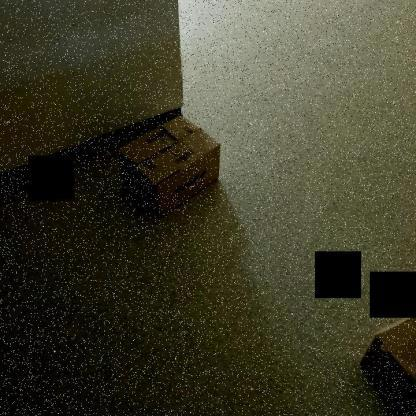-: (111, 98, 228, 223)
